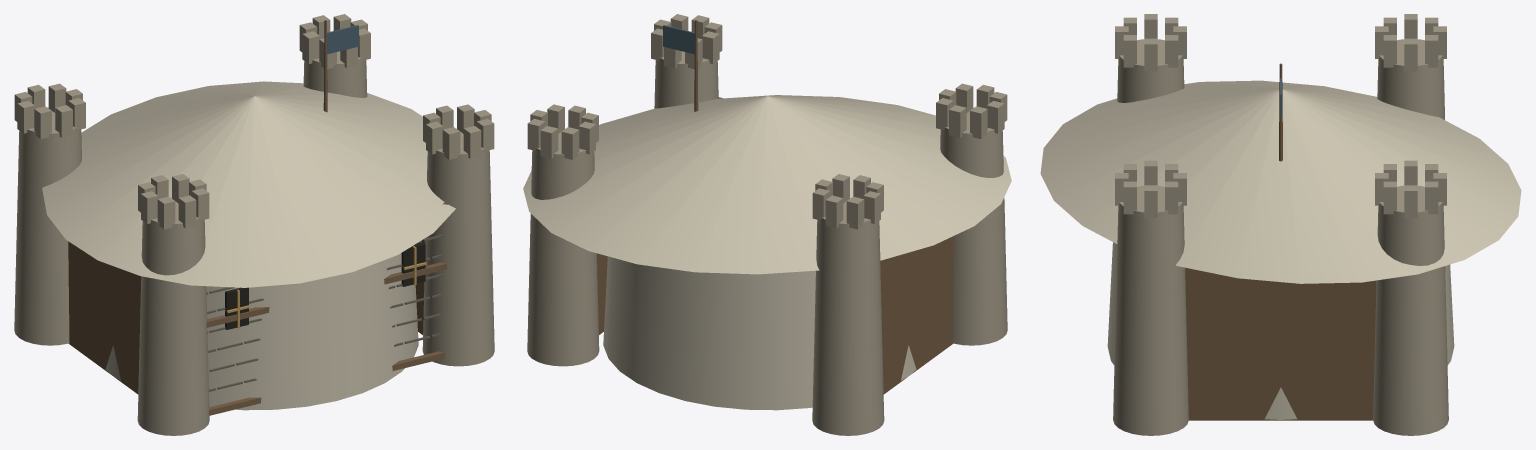
The model's file is b-town-steppe.glb.
3 renders of one model, left to right at view 1: azimuth 30°, elevation 25°; view 2: azimuth 150°, elevation 25°; view 3: azimuth 270°, elevation 25°, orthographic. The views are drawn at different scales.
Parts seen in each view (by area): view 1: Structure; view 2: Structure; view 3: Structure.
Part boxes in pixels (<box>): Structure: <box>14,14,494,435</box>; Structure: <box>523,14,1011,435</box>; Structure: <box>1040,14,1521,435</box>.
Bounding box in the file's own units: 8.88 × 6.52 × 8.88.
